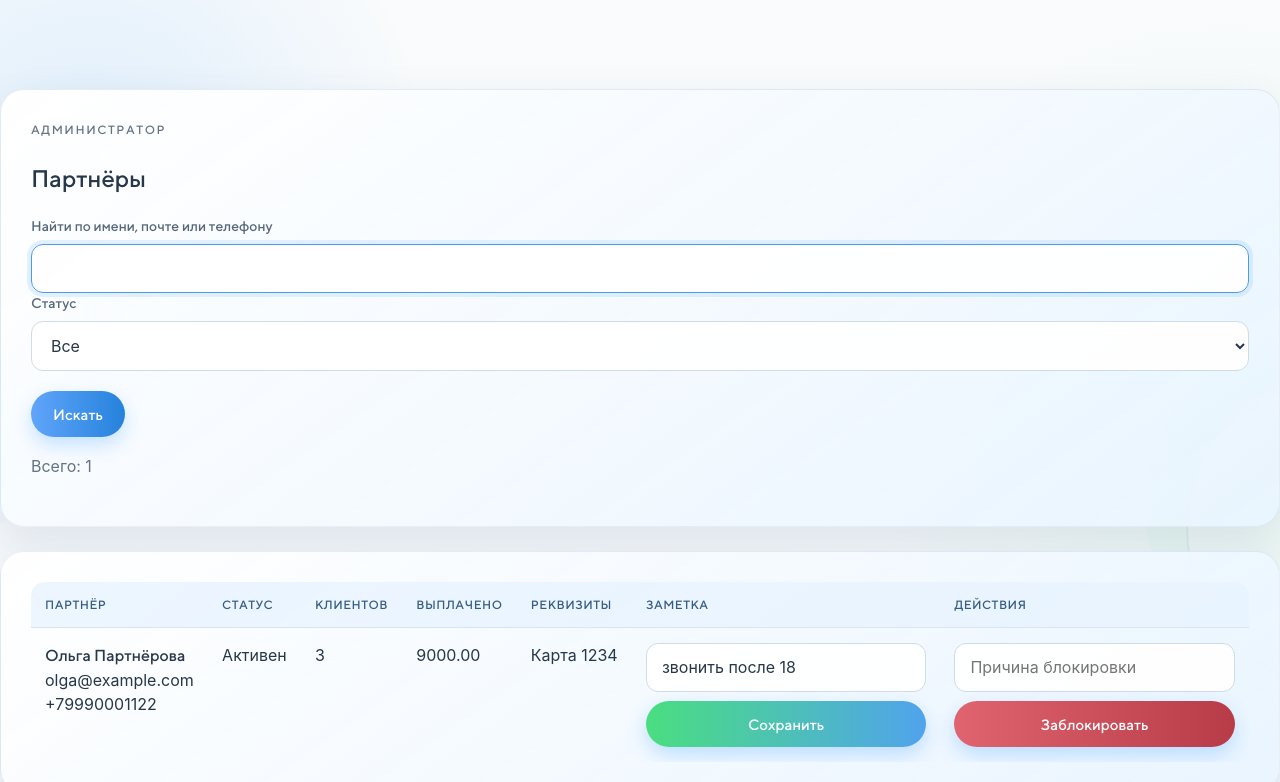
AdminPartnersPage › shows why a change was refused
The width and height of the screenshot is (1280, 782).
Type "x" into the field named "Причина блокировки:" at (1095, 667), box [954,643,1235,692]
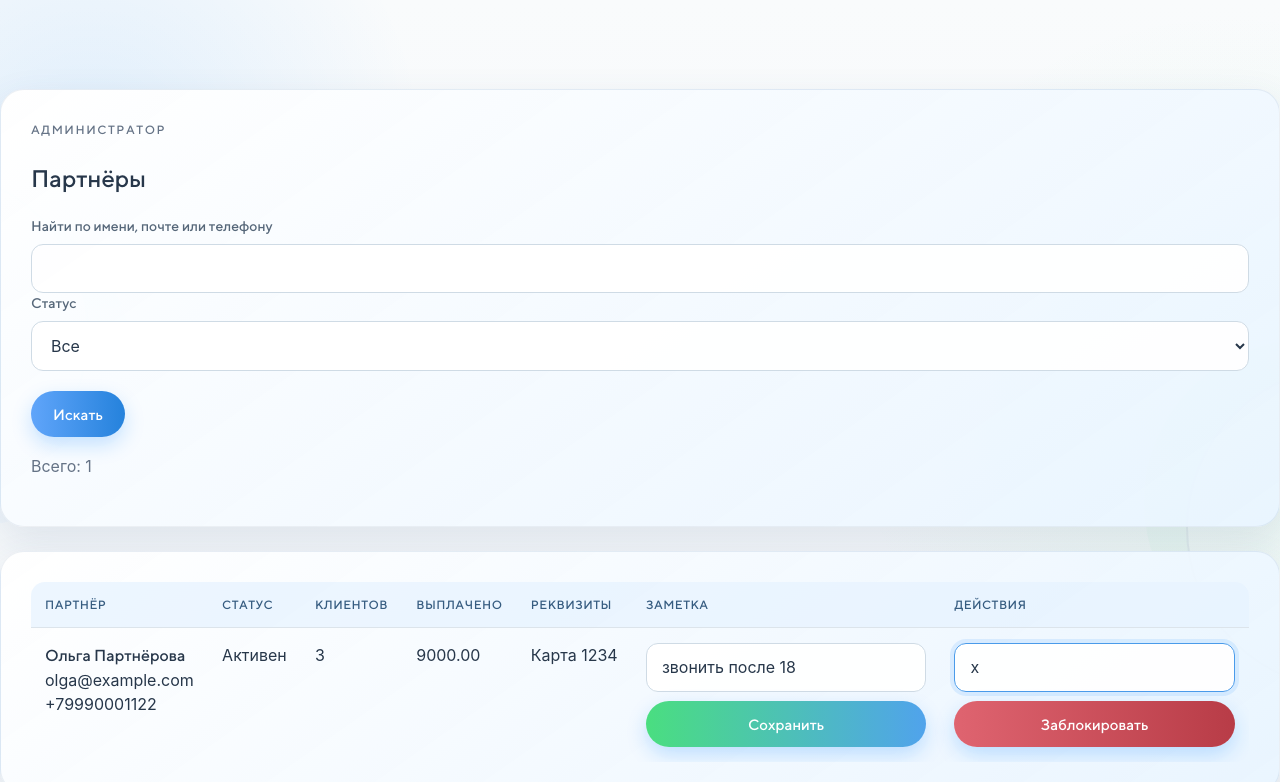
Click the button "Заблокировать" at (1095, 724), box [954,701,1235,747]
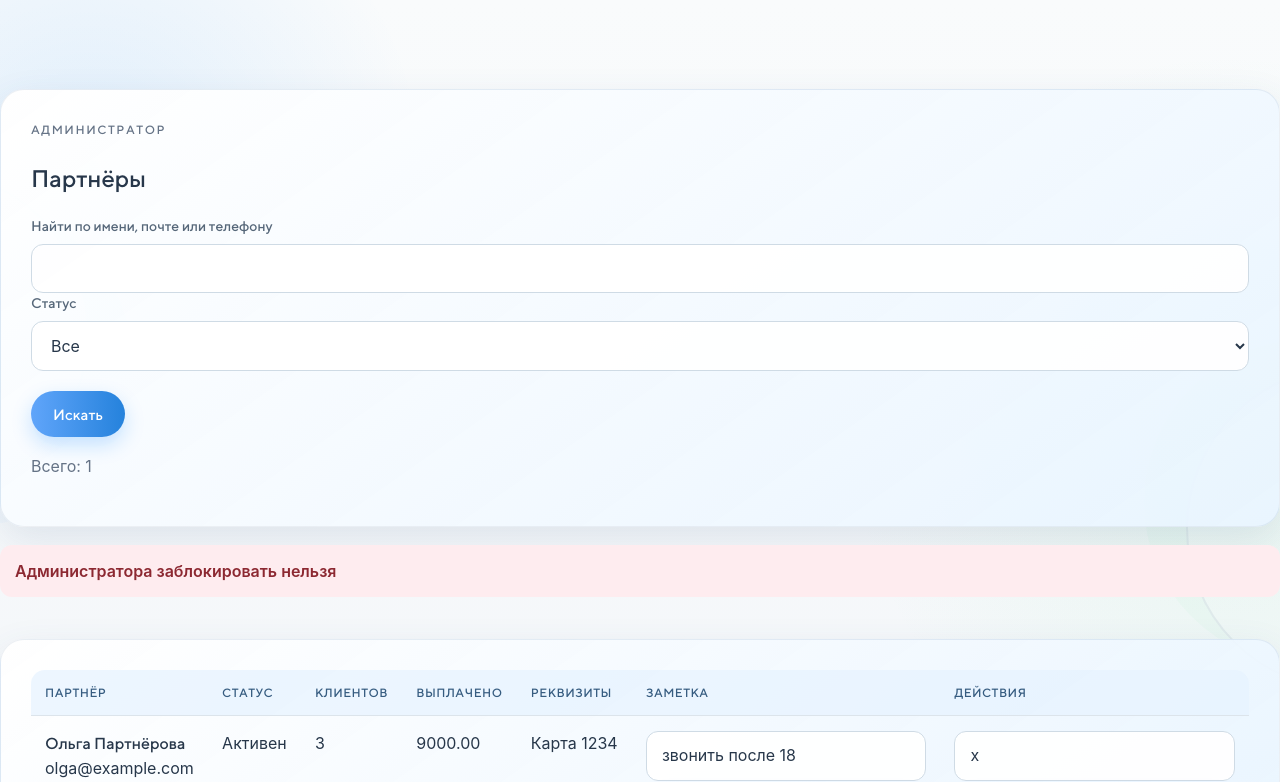
Check: the message reads "Администратора заблокировать нельзя", box [15,561,336,581]
